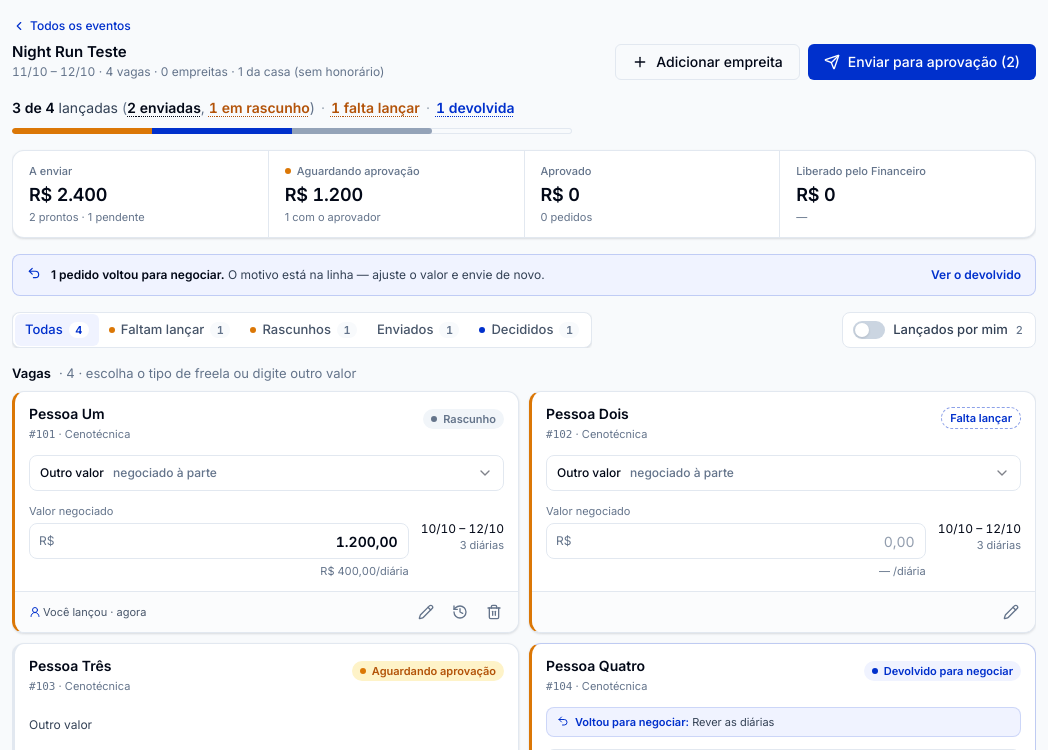
Honorários — gaveta do evento: o que já foi lançado e o que falta (23/10) › resumo do topo, abas com contagem, atalhos do resumo, quem lançou e “Lançados por mim”
Expected: the element with test id "hon-resumo" shows "3 de 4 lançadas", [12,96,572,134]
Expected: the element with test id "hon-resumo" shows "1 falta lançar", [12,96,572,134]
Click the button with test id "hon-resumo-falta". click: click(375, 108)
box: [331,96,420,120]
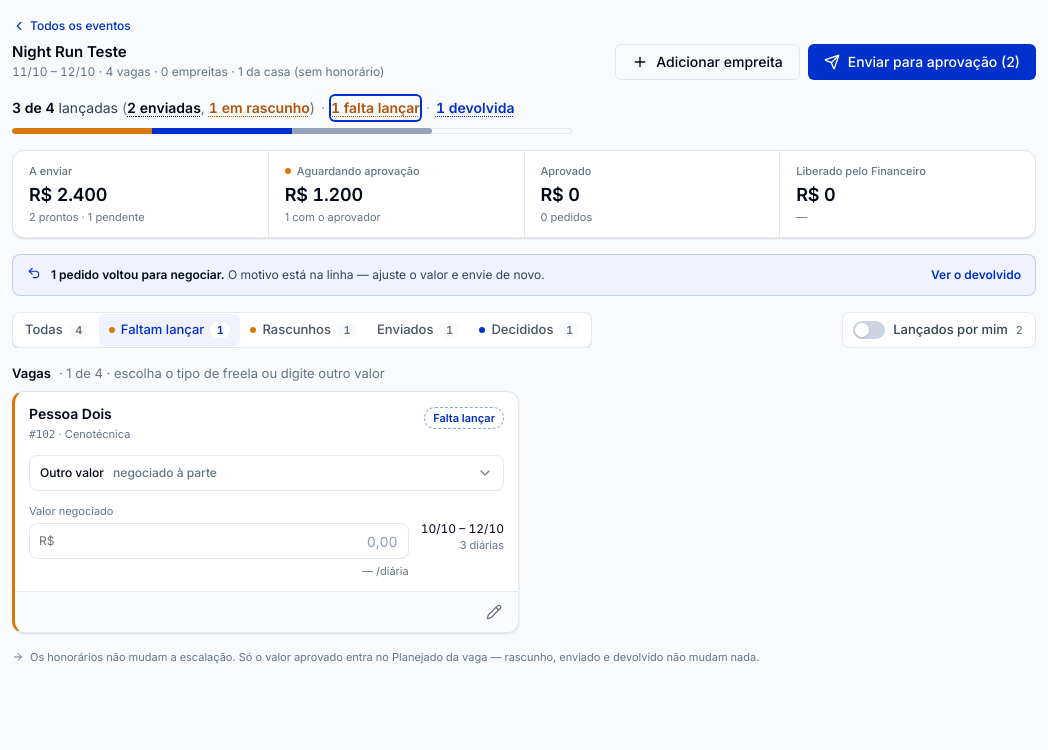
Expected: the list item with test id "hon-linha-102" is shown, [12,391,519,633]
Expected: the list item with test id "hon-linha-101" is gone
Click the radio button with test id "hon-aba-decididos". click: click(529, 330)
box: [469,314,589,346]
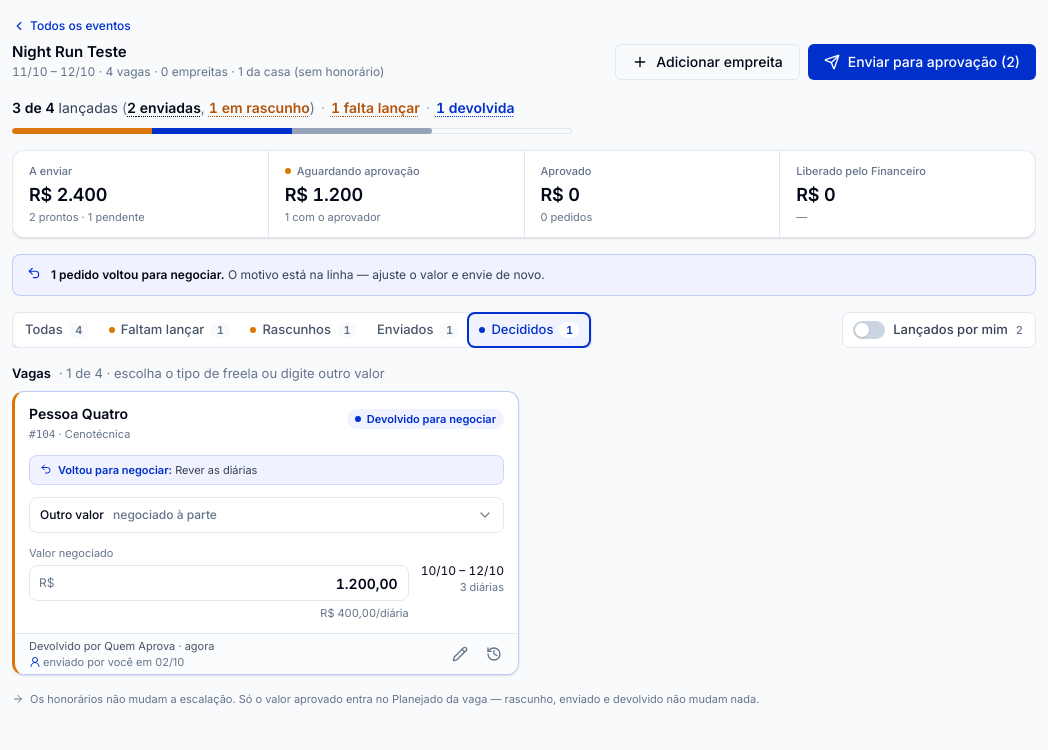
Expected: the list item with test id "hon-linha-104" is shown, [12,391,519,675]
Expected: the list item with test id "hon-linha-102" is gone
Click the radio button with test id "hon-aba-todas". click: click(57, 330)
box: [15,314,99,346]
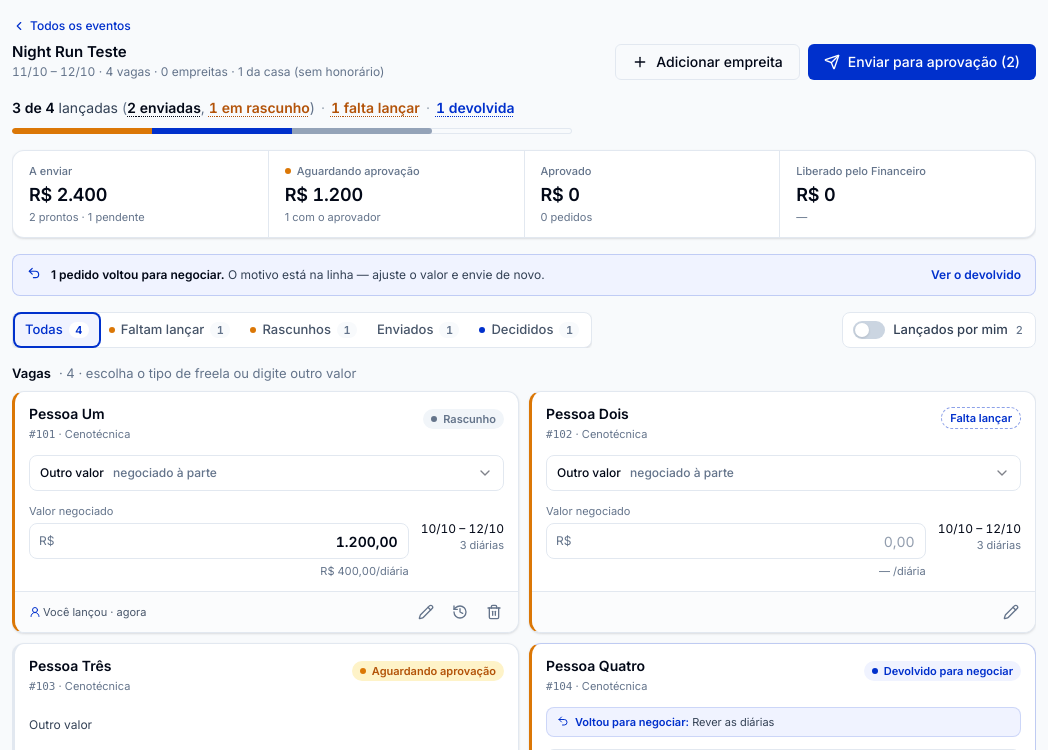
Click the switch with test id "hon-so-meus". click: click(939, 330)
box: [842,312,1036,348]
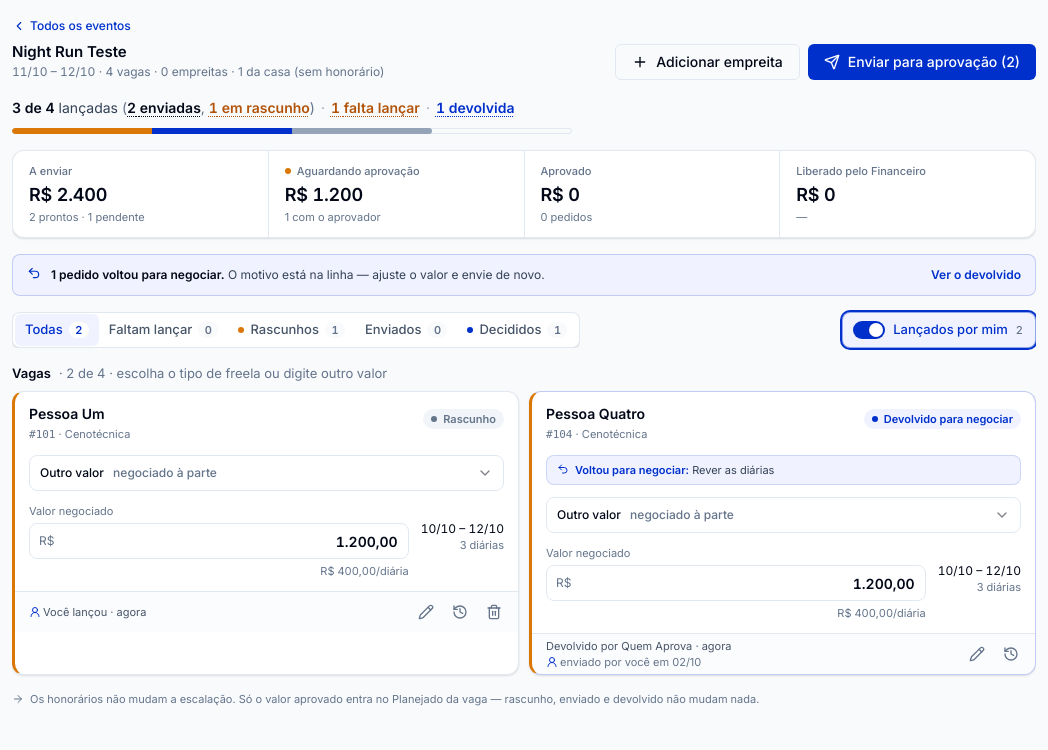
Expected: the list item with test id "hon-linha-101" is shown, [12,391,519,675]
Expected: the list item with test id "hon-linha-104" is shown, [529,391,1036,675]
Expected: the list item with test id "hon-linha-102" is gone
Note: Aba sem nada: explica e oferece voltar.
Click the radio button with test id "hon-aba-enviados". click: click(406, 330)
box: [355,314,458,346]
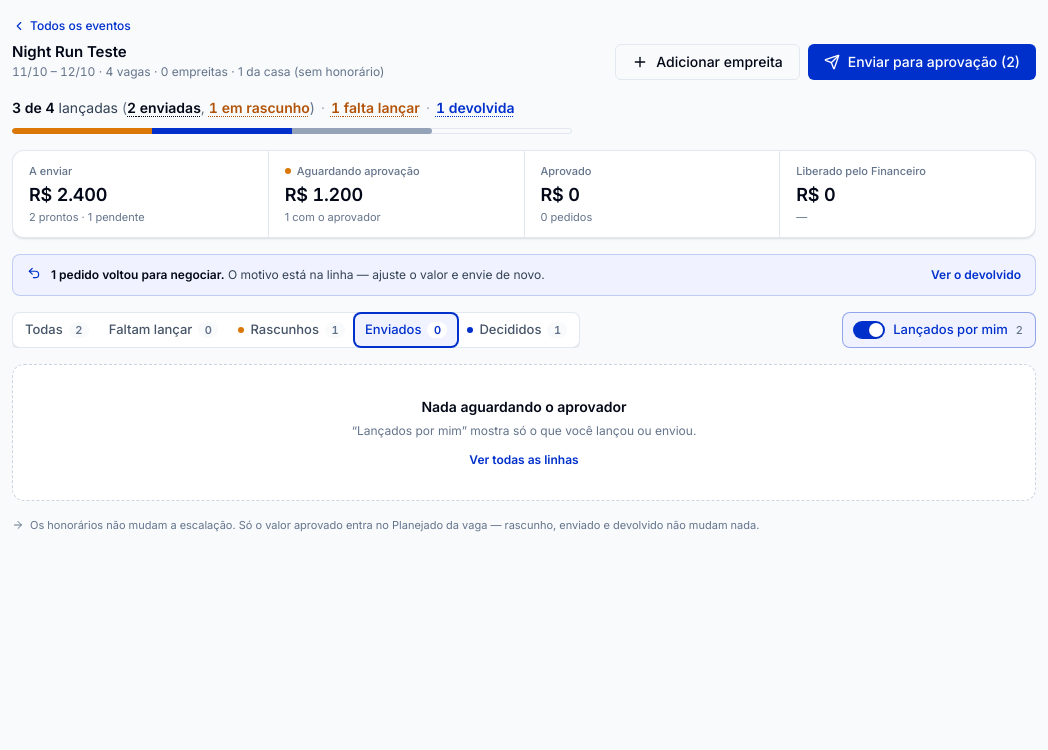
Expected: the message with test id "hon-aba-vazia" is shown, [12,364,1036,501]
